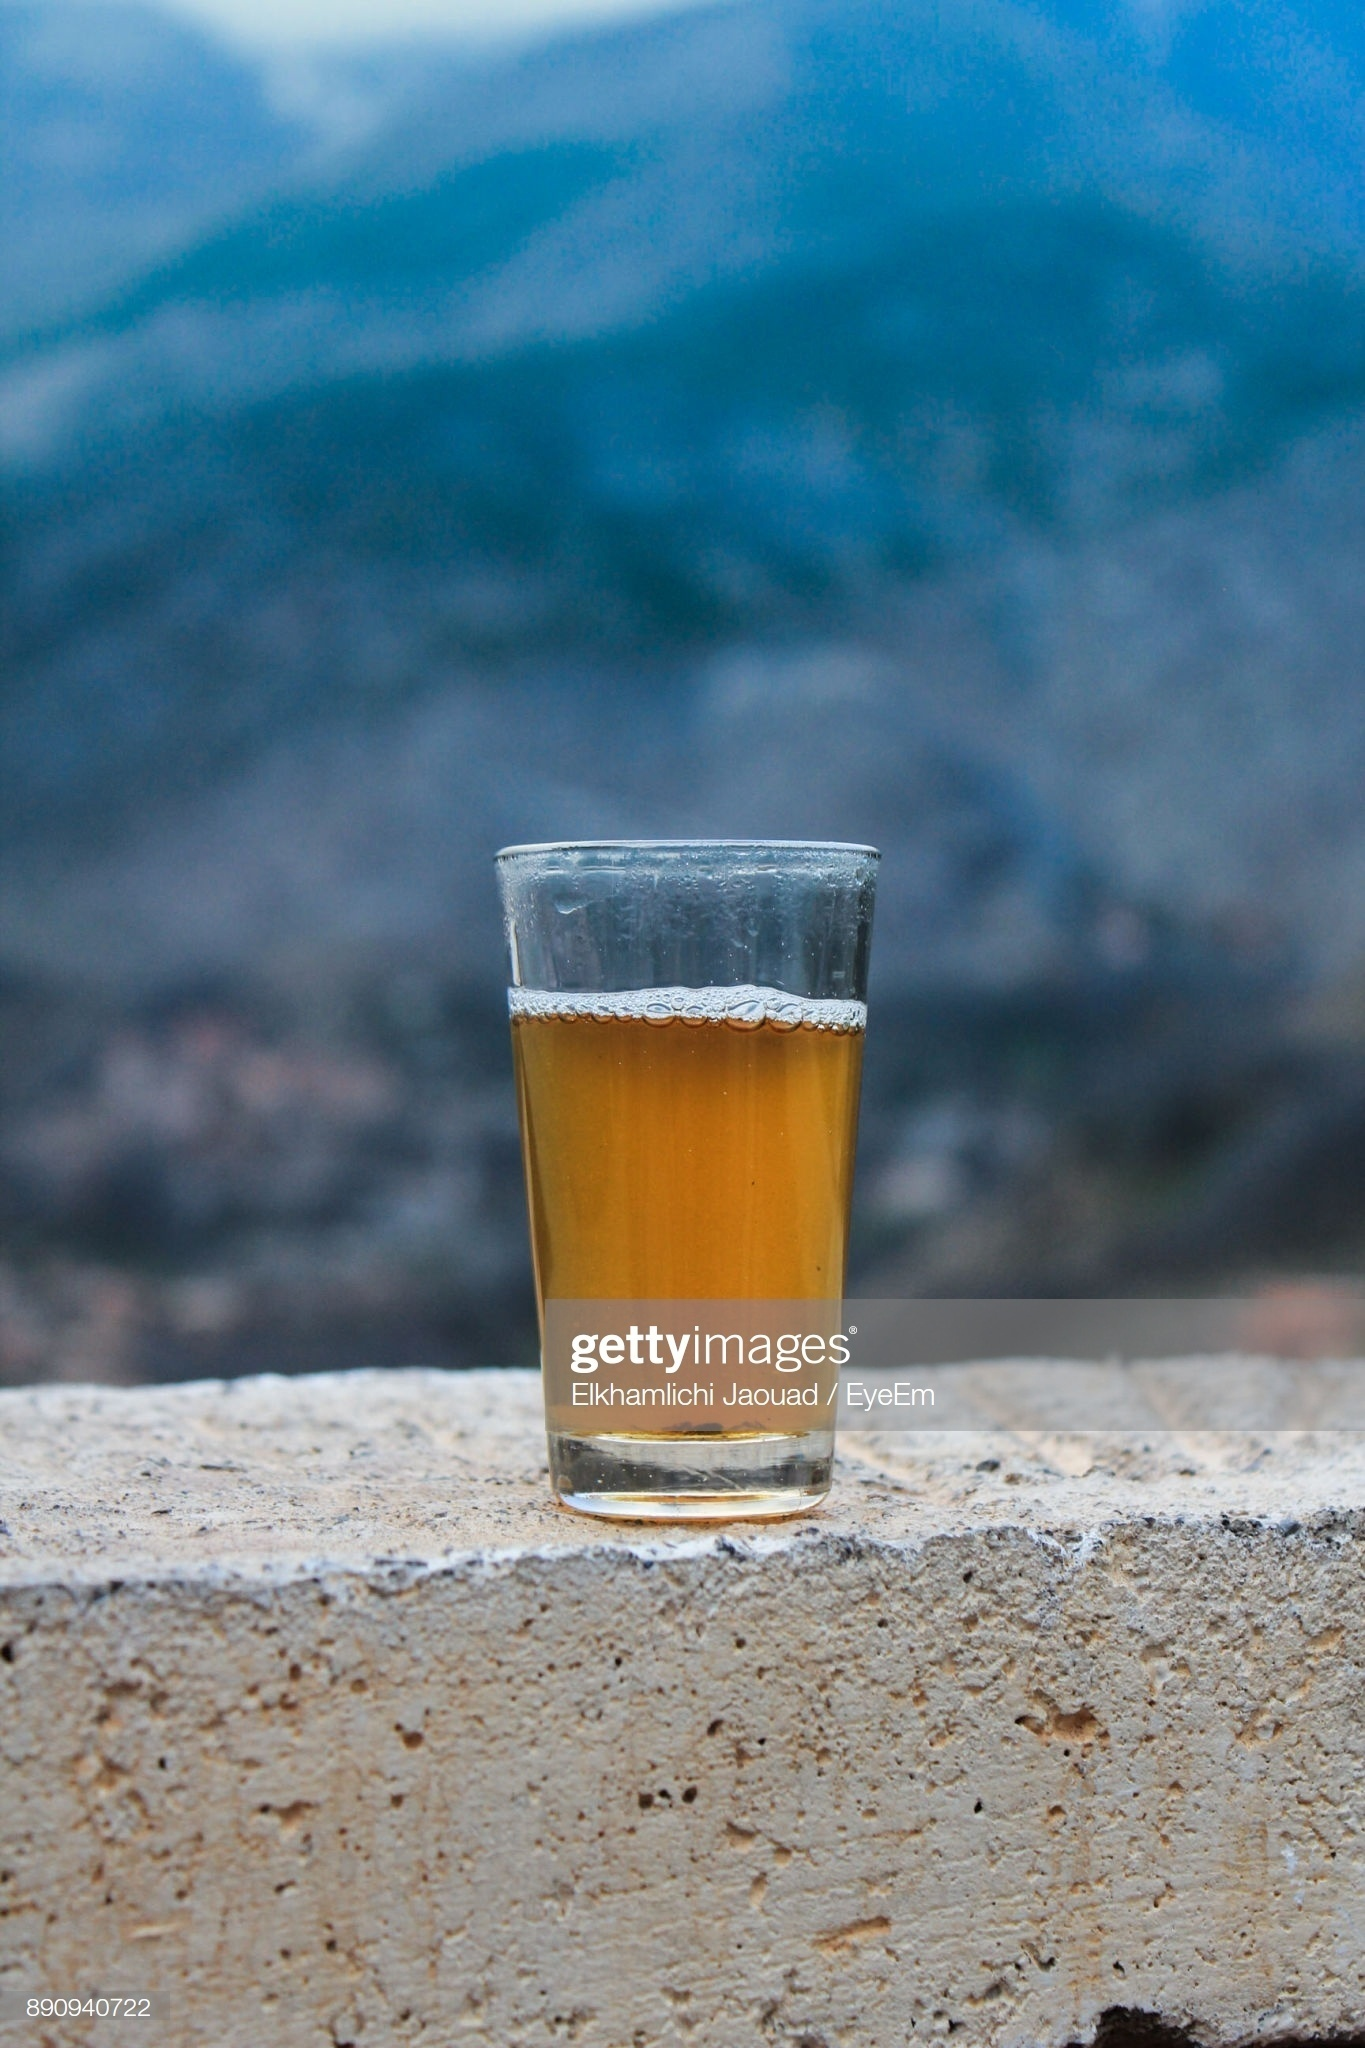whiskey: (468, 833, 874, 1504)
